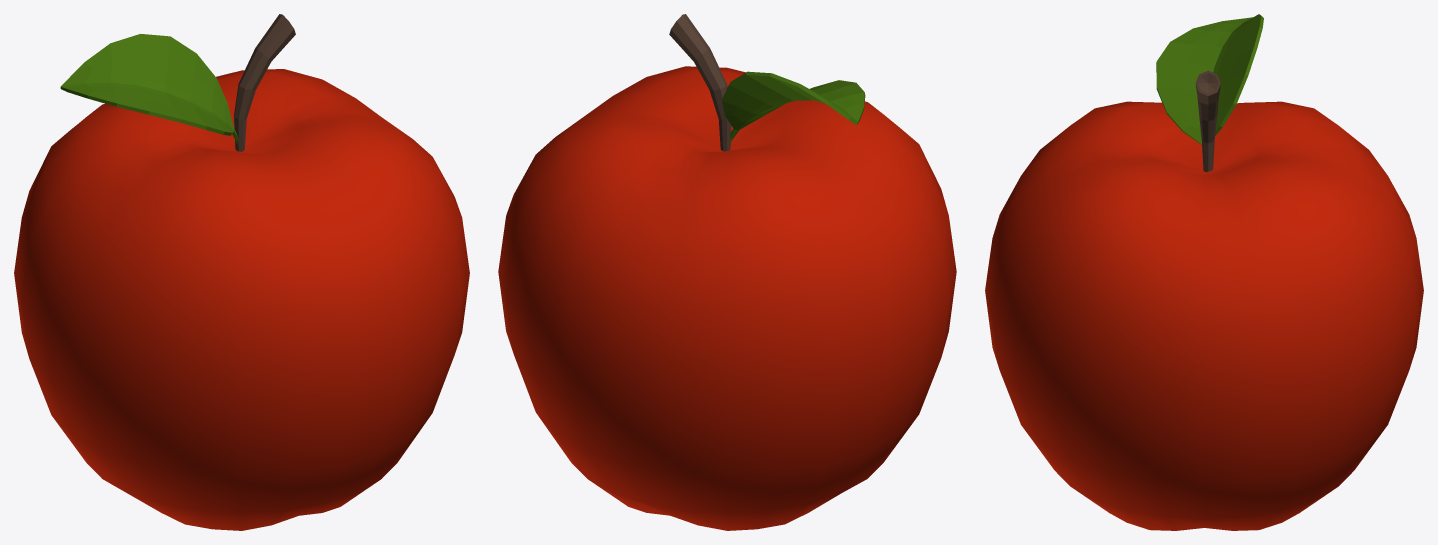
The model's file is mela.fbx.
The picture shows the model from 3 angles, left to right: view 1: azimuth 30°, elevation 25°; view 2: azimuth 150°, elevation 25°; view 3: azimuth 270°, elevation 25°; orthographic projection. The views are drawn at different scales.
Visible parts, largest first — view 1: Mela; view 2: Mela; view 3: Mela.
Boxes of the visible parts, x1,y1,x2,y2 form: Mela: (14, 14, 469, 530); Mela: (498, 14, 956, 530); Mela: (985, 14, 1423, 530).
Bounding box in the file's own units: 16.61 × 18.94 × 16.61.
